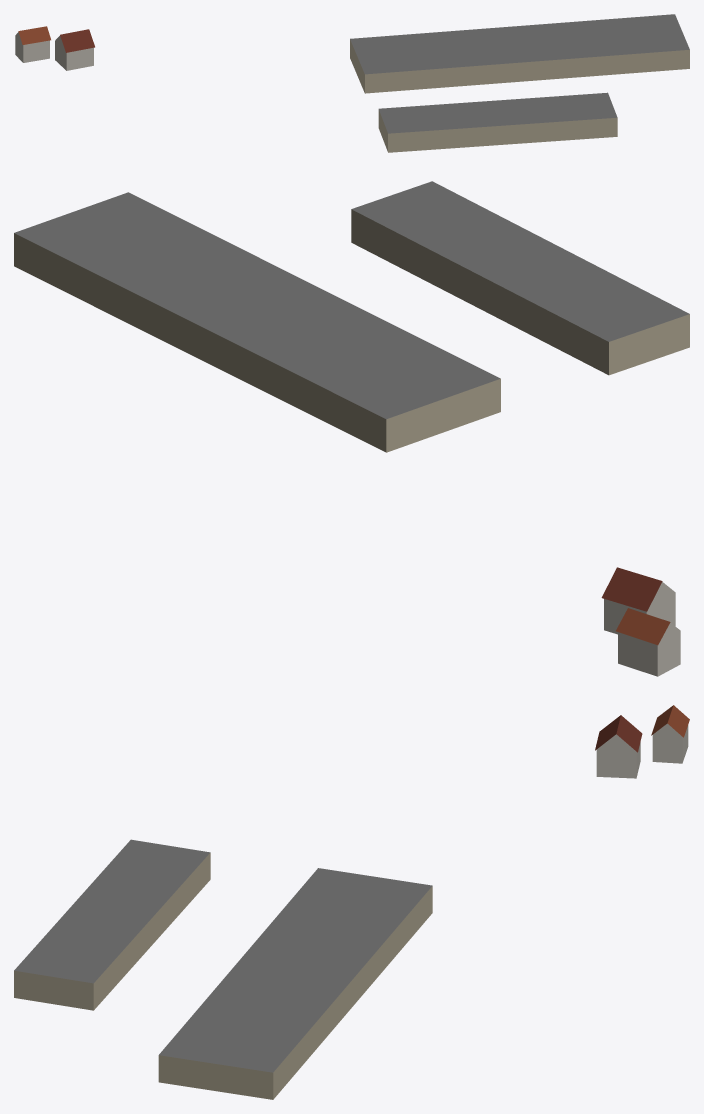
The picture shows the model from 3 angles, top to bottom: view 1: azimuth 30°, elevation 25°; view 2: azimuth 150°, elevation 25°; view 3: azimuth 270°, elevation 25°; orthographic projection. The views are drawn at different scales.
Parts seen in each view (by area): view 1: buildings; view 2: buildings; view 3: buildings.
Boxes of the visible parts, x1,y1,x2,y2 form: buildings: (15,14,689,152); buildings: (14,181,689,676); buildings: (14,705,689,1099).
Size of the model in its own units: 170 by 10.14 by 135.
